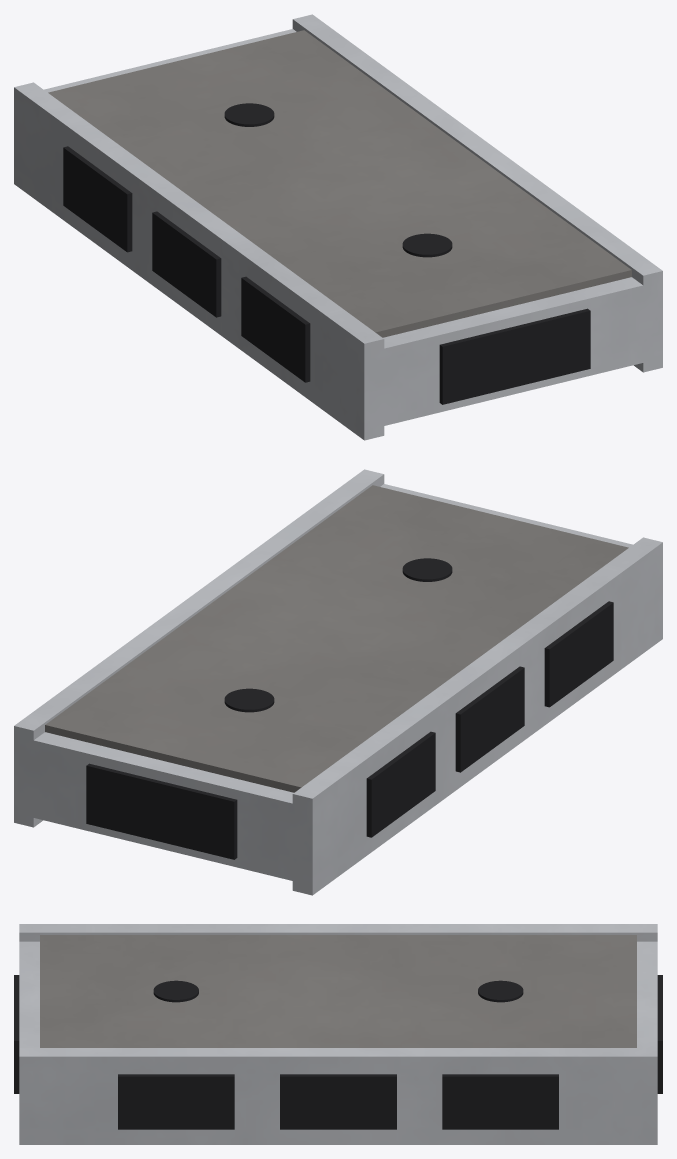
File: rover13_chassis_frame_xs.glb
The picture shows the model from 3 angles, top to bottom: view 1: azimuth 30°, elevation 25°; view 2: azimuth 150°, elevation 25°; view 3: azimuth 270°, elevation 25°; orthographic projection. The views are drawn at different scales.
Visible parts, largest first — view 1: deck_top, rails, end_beams, hardpoints, end_hardpoints, sockets_top; view 2: deck_top, rails, end_beams, hardpoints, end_hardpoints, sockets_top; view 3: deck_top, rails, hardpoints, end_beams, sockets_top, end_hardpoints.
Boxes of the visible parts, x1,y1,x2,y2 form: deck_top: (48,30,631,337); rails: (14,14,662,440); end_beams: (44,29,643,425); hardpoints: (63,146,310,382); end_hardpoints: (439,308,590,404); sockets_top: (224,103,452,257); deck_top: (45,485,628,792); rails: (14,469,662,895); end_beams: (33,484,632,880); hardpoints: (366,601,613,837); end_hardpoints: (86,763,237,859); sockets_top: (224,558,452,712); deck_top: (40,935,636,1047); rails: (19,924,657,1144); hardpoints: (118,1074,558,1129); end_beams: (19,941,657,1047); sockets_top: (153,980,523,1002); end_hardpoints: (14,975,662,1093).
Size of the model in its own units: 0.5 by 0.15 by 1.
Materials: 3 (2 with a texture image).
